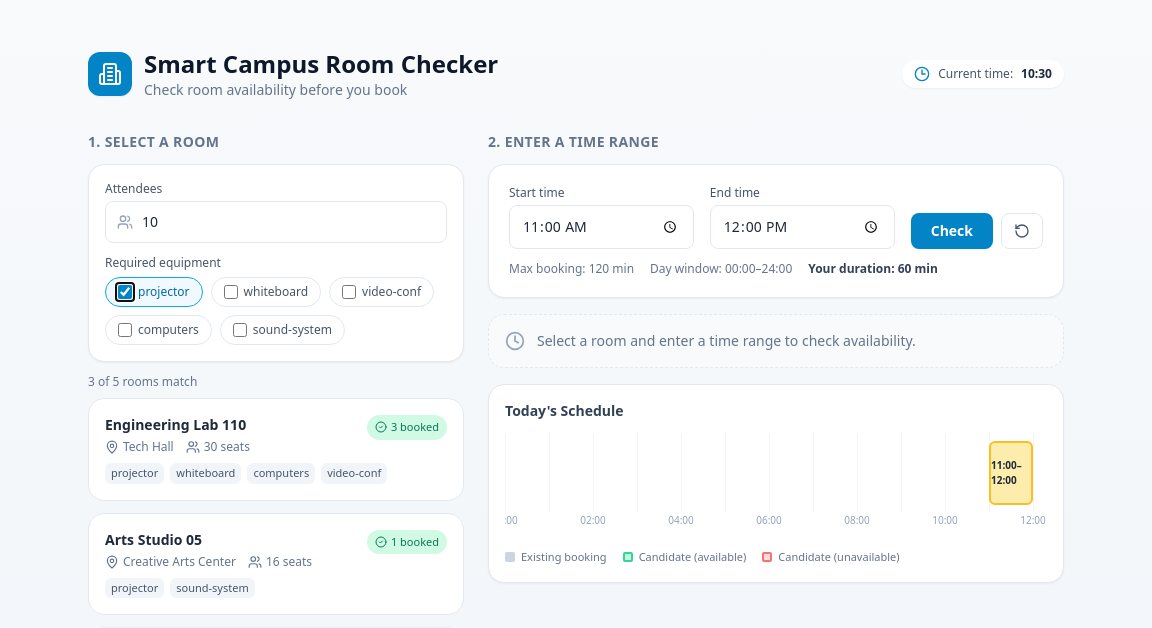
Test: App — filter → select → check → switch room › F1/F2/F3/F5 + AC4: result follows the selected room
Earlier steps of the test are not shown.
Check: the text "3 of 5 rooms match" is shown, box [88,373,197,390]
Click the button "Engineering Lab 110" at (176, 424), box [88,398,464,500]
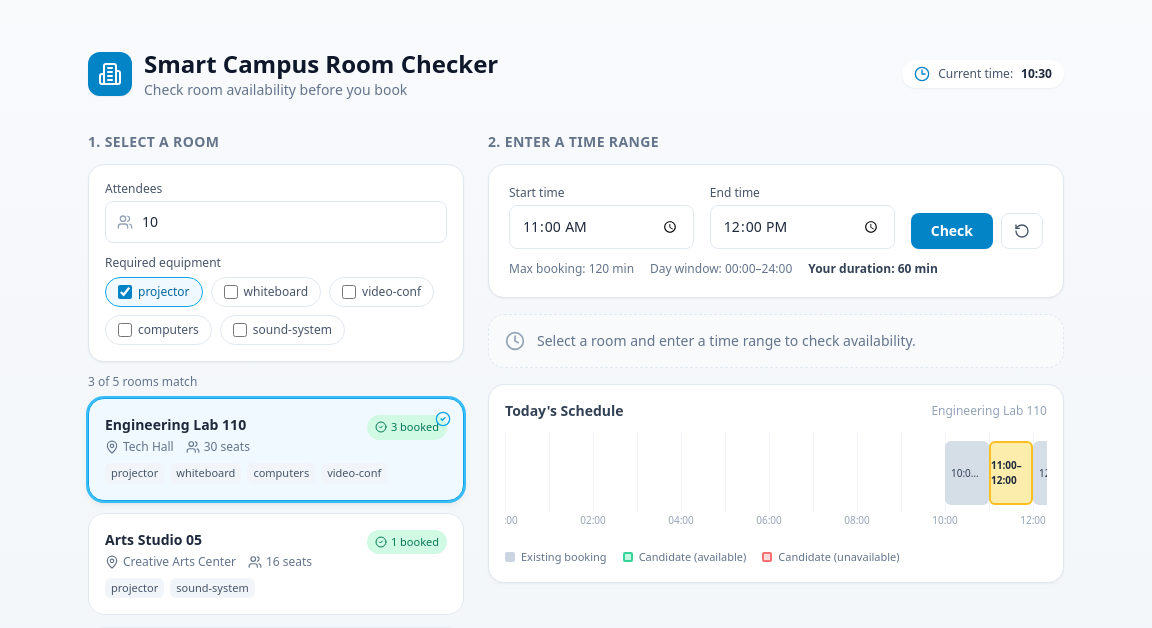
Replace the text in the time field showing "11:00" with "13:00" at (601, 227), box [509,205,694,249]
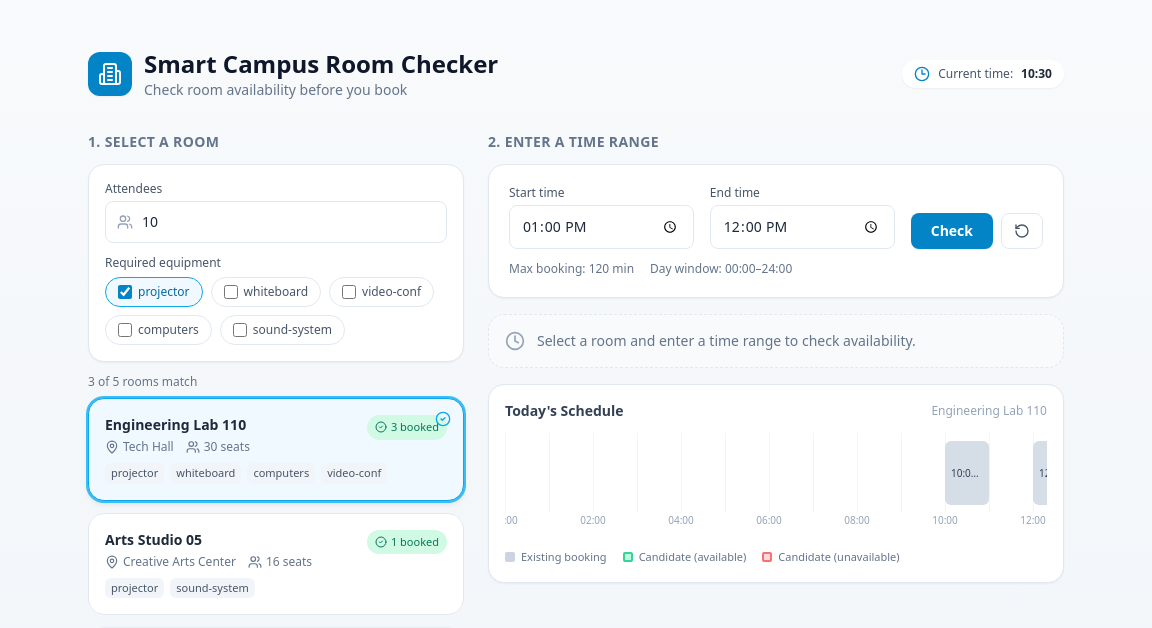
Replace the text in the time field showing "12:00" with "14:00" at (802, 227), box [710,205,895,249]
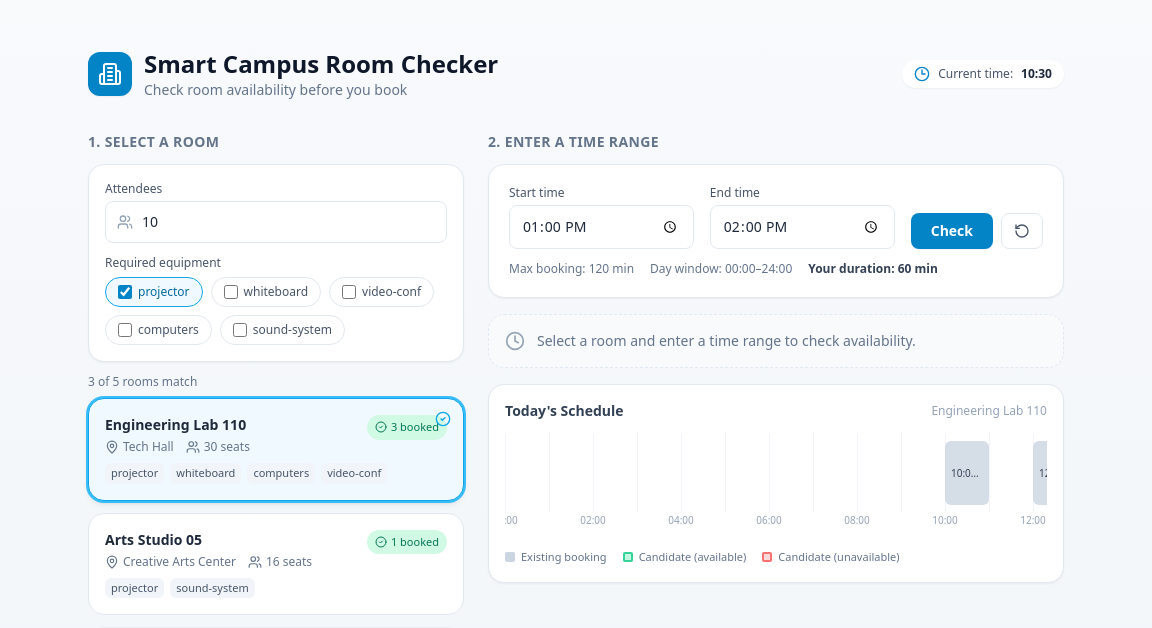
Click the button "Check" at (952, 231), box [911,213,993,249]
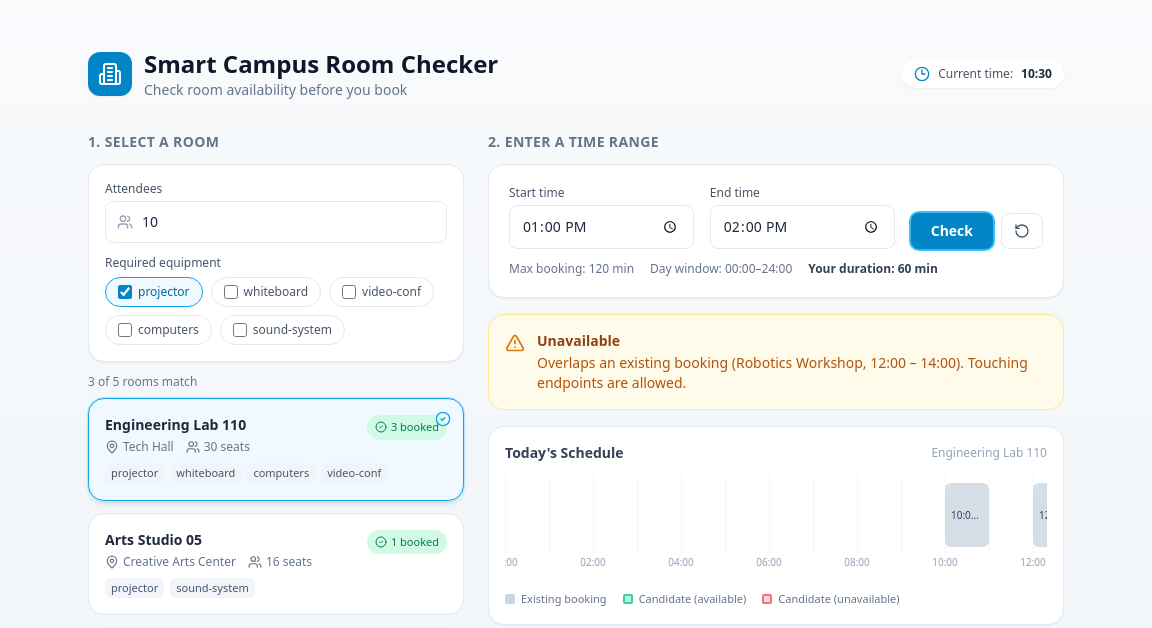
Check: the text "Unavailable" is shown, box [537,331,620,350]
Check: the text "Robotics Workshop" is shown, box [537,353,1028,392]
Click the button "Arts Studio 05" at (276, 564), box [88,512,464,615]
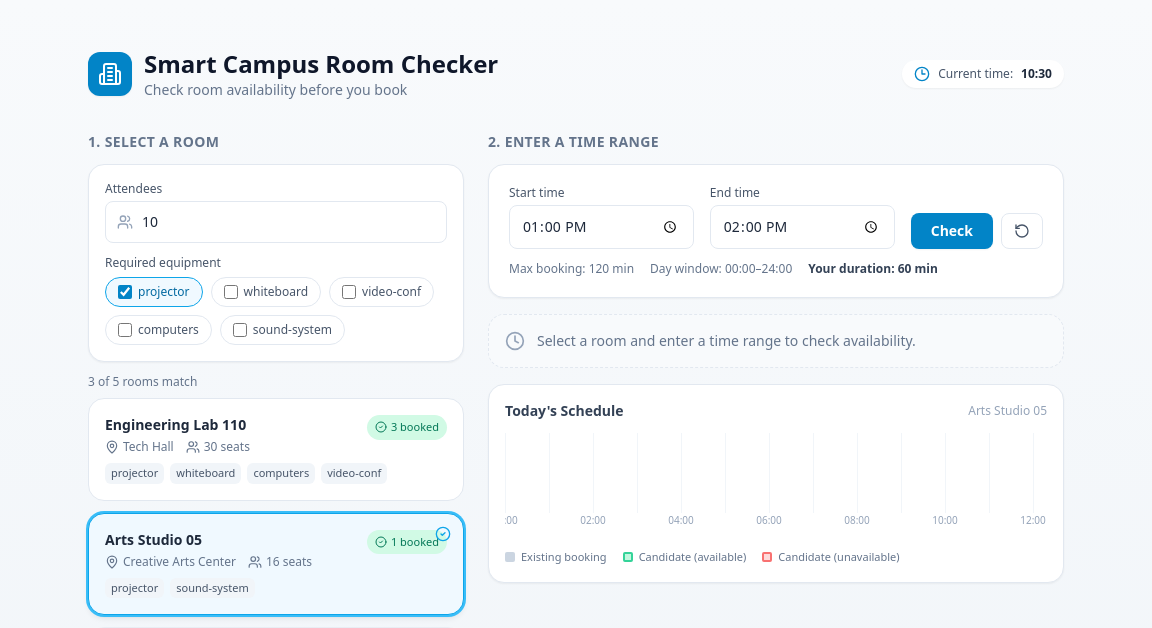
Check: the text "Select a room and enter a time range to check availability." is shown, box [537,331,916,351]
Click the button "Check" at (952, 231), box [911,213,993,249]
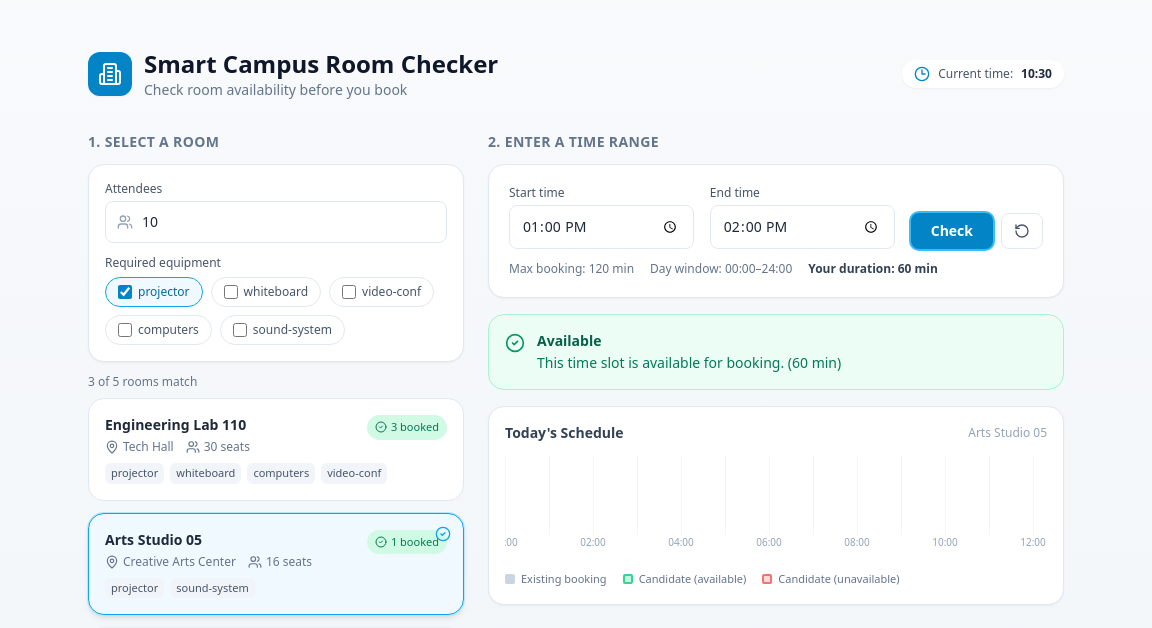
Check: the text "Available" is shown, box [537,331,602,350]
Check: the text "This time slot is available for booking. (60 min)" is shown, box [537,353,841,373]
